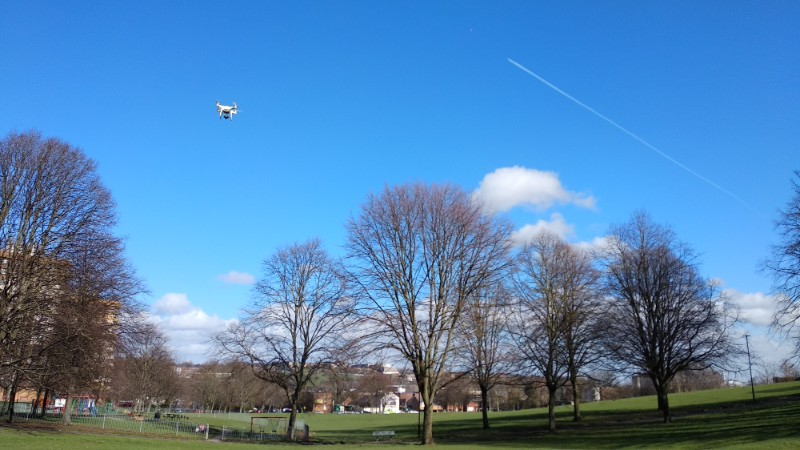drone: (215, 100, 242, 123)
